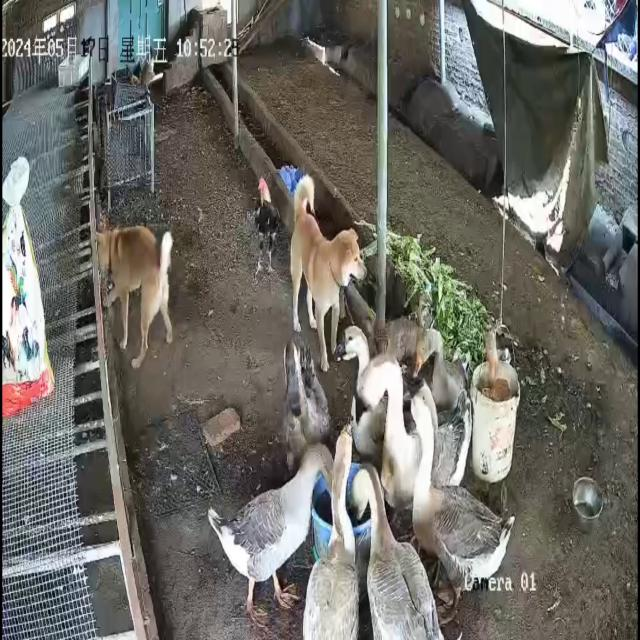dog: (291, 175, 369, 374), (97, 223, 175, 370)
